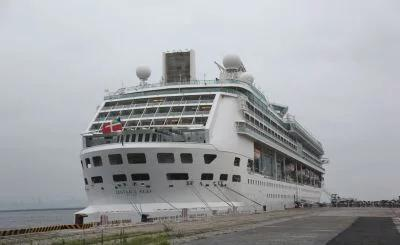youlun: (75, 48, 328, 222)
